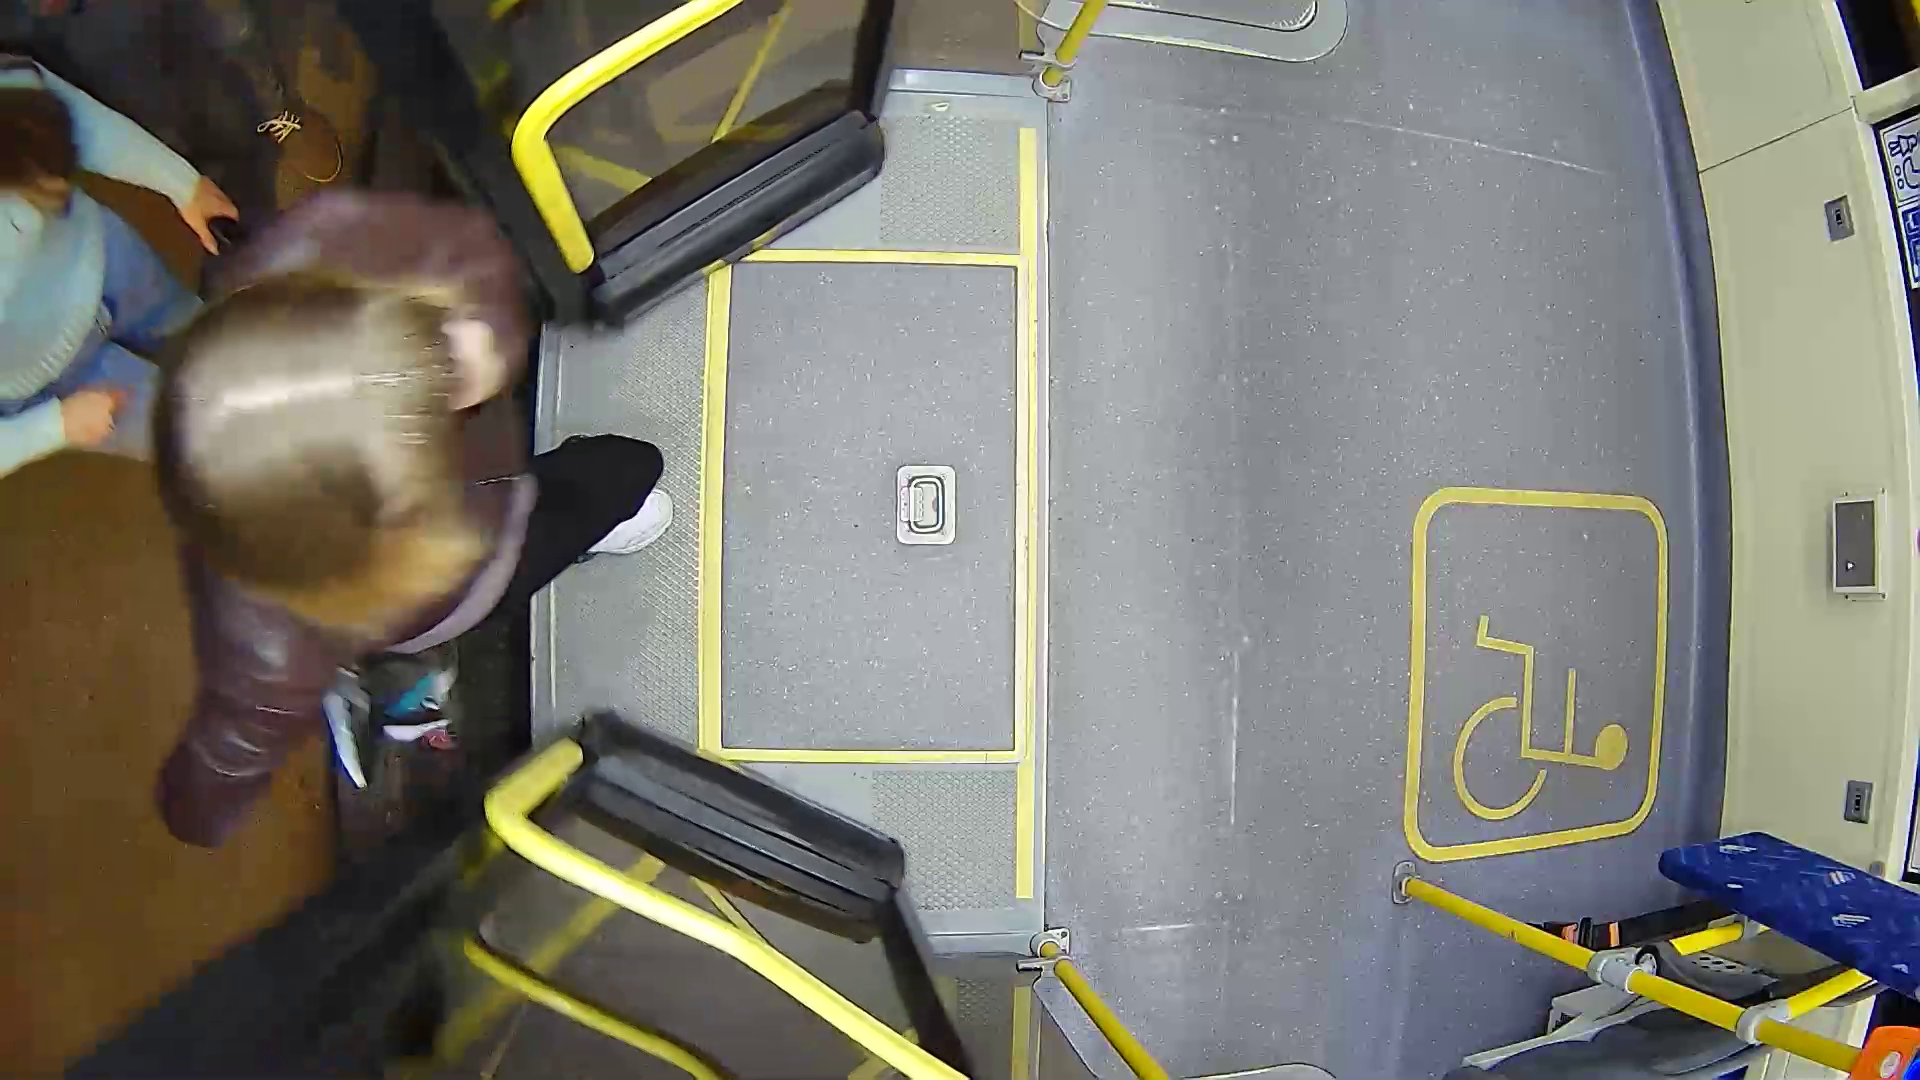person: (159, 181, 691, 801)
